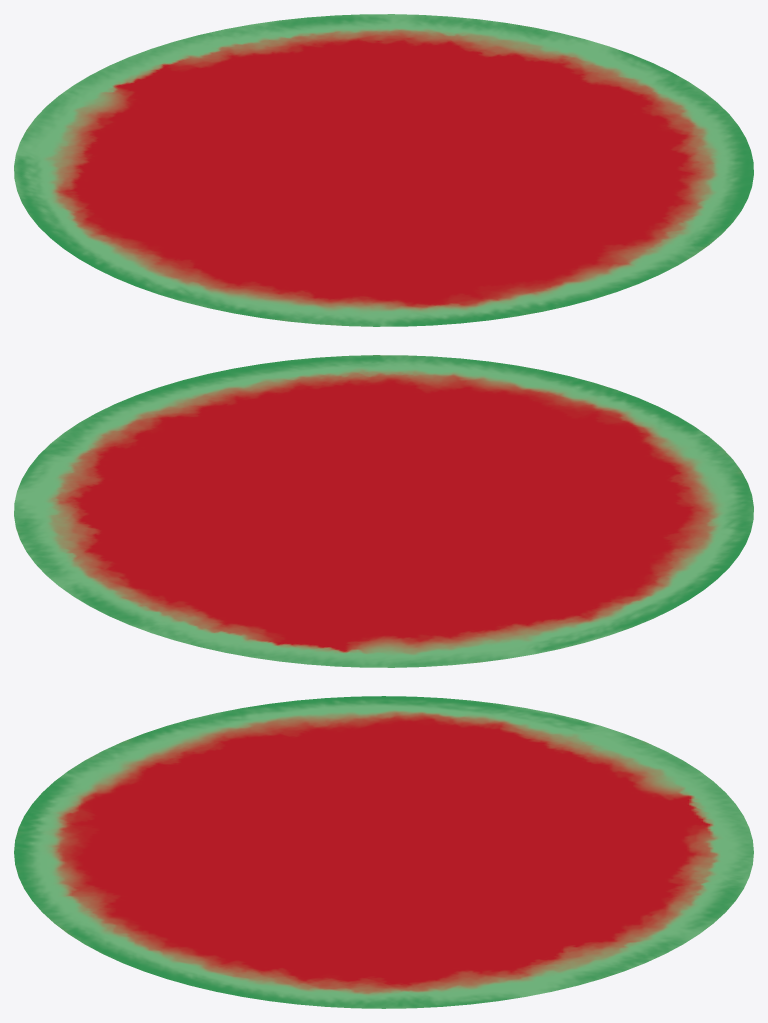
File: Plano2.glb
3 renders of one model, top to bottom at view 1: azimuth 30°, elevation 25°; view 2: azimuth 150°, elevation 25°; view 3: azimuth 270°, elevation 25°, orthographic.
Parts seen in each view (by area): view 1: pCylinder1; view 2: pCylinder1; view 3: pCylinder1.
Boxes of the visible parts, bbox=[...] form: pCylinder1: bbox=[14, 14, 753, 326]; pCylinder1: bbox=[14, 355, 753, 667]; pCylinder1: bbox=[14, 696, 753, 1008].
Bounding box in the file's own units: 0.0197 × 4.36e-18 × 0.0197.
1 material, 1 textured.
